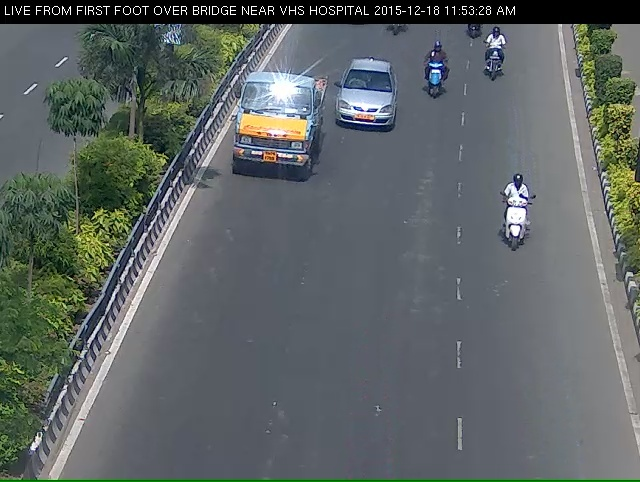Bus: (226, 65, 313, 201)
Car: (336, 69, 397, 151)
Person: (499, 183, 534, 264), (421, 48, 447, 109), (486, 37, 507, 91)
